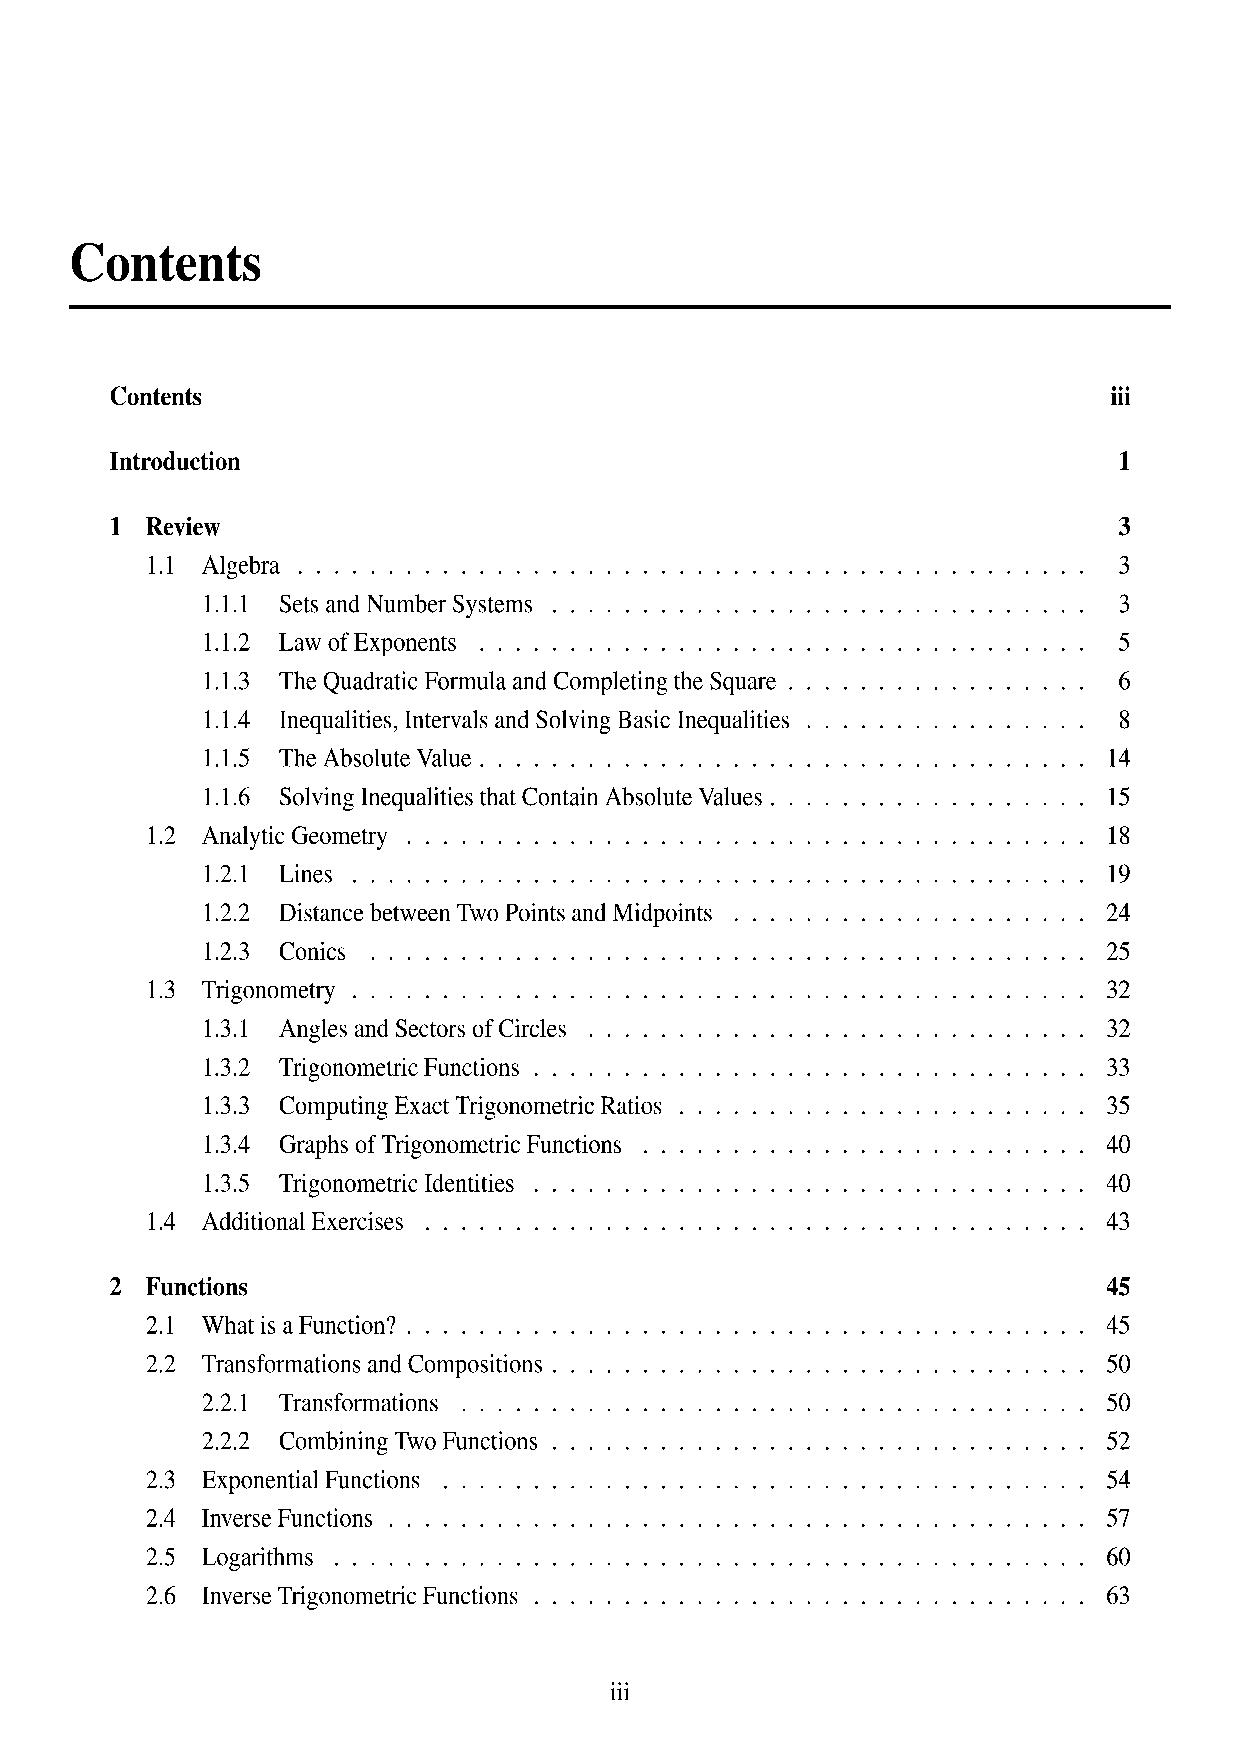TOC_chapter: (204, 667, 776, 697), (204, 707, 789, 735), (203, 784, 762, 812), (204, 900, 713, 929), (203, 1091, 662, 1121), (205, 1131, 621, 1161), (144, 1351, 544, 1377), (145, 1584, 519, 1610), (203, 1427, 539, 1456), (203, 1017, 565, 1043), (203, 592, 531, 619), (203, 1055, 523, 1082), (205, 1170, 517, 1197), (201, 629, 456, 658), (203, 745, 471, 770), (148, 821, 386, 849), (146, 1209, 408, 1235), (146, 1469, 420, 1494), (146, 1312, 397, 1337), (146, 978, 335, 1007), (144, 1507, 373, 1530), (201, 1392, 442, 1413), (144, 1545, 314, 1571), (106, 1274, 250, 1300), (203, 938, 348, 962), (146, 554, 280, 580), (107, 450, 242, 472), (109, 513, 221, 538), (203, 863, 334, 884), (107, 380, 203, 407)
TOC_pagenumber: (1108, 378, 1137, 408), (1104, 976, 1134, 1002), (1106, 1428, 1134, 1455), (1103, 1130, 1133, 1155), (1107, 1465, 1133, 1494), (1100, 1272, 1131, 1295), (1106, 1310, 1131, 1337), (1104, 743, 1133, 768), (1104, 1390, 1133, 1414), (1106, 862, 1133, 886), (1104, 1504, 1131, 1529), (1104, 1092, 1133, 1115), (1104, 1545, 1133, 1567), (1107, 821, 1131, 847), (1106, 1584, 1131, 1608), (1104, 1016, 1131, 1039), (1106, 1172, 1133, 1194), (1104, 785, 1133, 807), (1104, 938, 1129, 962), (1106, 1351, 1130, 1376), (1106, 1055, 1131, 1078), (1113, 666, 1134, 692), (1103, 1210, 1130, 1232), (1115, 706, 1137, 731), (1104, 900, 1130, 922), (1115, 448, 1134, 476), (1117, 514, 1133, 539), (1117, 629, 1133, 650), (1121, 592, 1133, 617), (1117, 556, 1133, 574)
chapter: (70, 238, 260, 283)
content_pagenumber: (609, 1679, 629, 1702)
